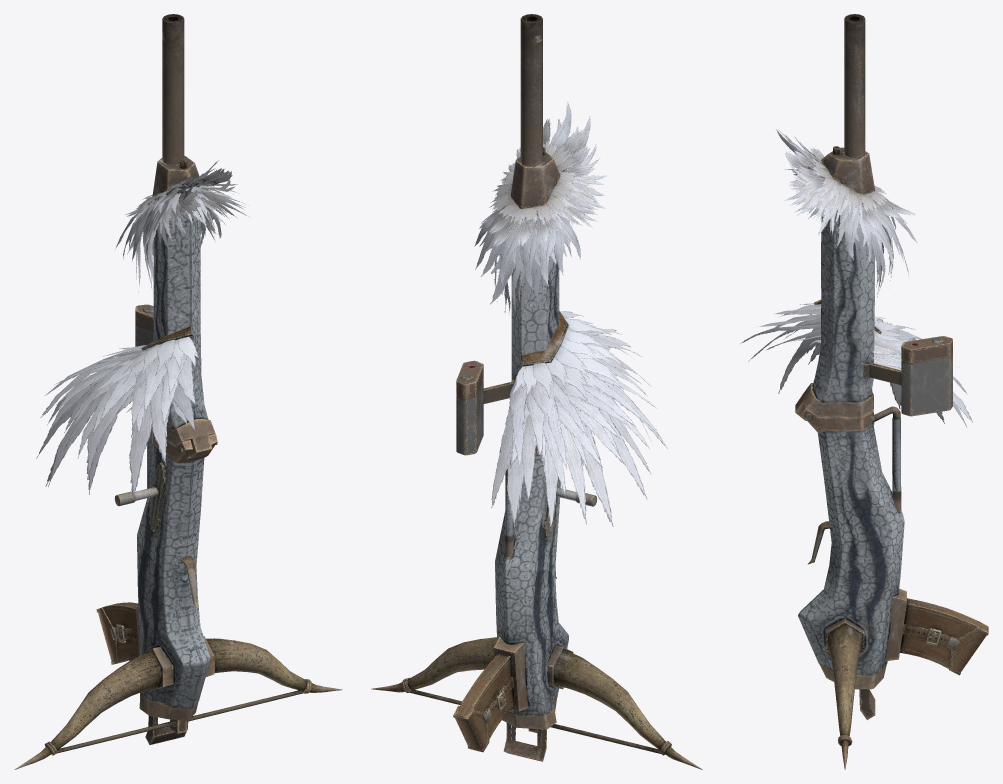
File: hbg003.obj
3 views of the same model, side by side, from view 1: azimuth 30°, elevation 25°; view 2: azimuth 150°, elevation 25°; view 3: azimuth 270°, elevation 25° (orthographic). The views are drawn at different scales.
Parts seen in each view (by area): view 1: hbg003_000_LOD_1, hbg003_005_LOD_1, hbg003_003_LOD_1, hbg003_001_LOD_1, hbg003_004_LOD_1, hbg003_002_LOD_1; view 2: hbg003_000_LOD_1, hbg003_005_LOD_1, hbg003_001_LOD_1, hbg003_003_LOD_1, hbg003_004_LOD_1, hbg003_006_LOD_1, hbg003_002_LOD_1; view 3: hbg003_000_LOD_1, hbg003_003_LOD_1, hbg003_001_LOD_1, hbg003_005_LOD_1, hbg003_004_LOD_1.
Part boxes in pixels (left/top/right/bottom): hbg003_000_LOD_1: left=14, top=427, right=342, bottom=769; hbg003_005_LOD_1: left=36, top=336, right=198, bottom=499; hbg003_003_LOD_1: left=135, top=156, right=217, bottom=457; hbg003_001_LOD_1: left=115, top=160, right=248, bottom=292; hbg003_004_LOD_1: left=162, top=14, right=184, bottom=164; hbg003_002_LOD_1: left=56, top=690, right=303, bottom=753; hbg003_000_LOD_1: left=371, top=446, right=702, bottom=769; hbg003_005_LOD_1: left=491, top=311, right=667, bottom=531; hbg003_001_LOD_1: left=474, top=101, right=608, bottom=321; hbg003_003_LOD_1: left=456, top=147, right=560, bottom=455; hbg003_004_LOD_1: left=520, top=14, right=542, bottom=166; hbg003_006_LOD_1: left=520, top=311, right=568, bottom=366; hbg003_002_LOD_1: left=409, top=689, right=661, bottom=753; hbg003_000_LOD_1: left=798, top=406, right=988, bottom=769; hbg003_003_LOD_1: left=795, top=146, right=952, bottom=420; hbg003_001_LOD_1: left=776, top=129, right=917, bottom=297; hbg003_005_LOD_1: left=740, top=303, right=972, bottom=426; hbg003_004_LOD_1: left=844, top=14, right=865, bottom=157.
Size of the model in its own units: 108 by 229 by 76.89.
